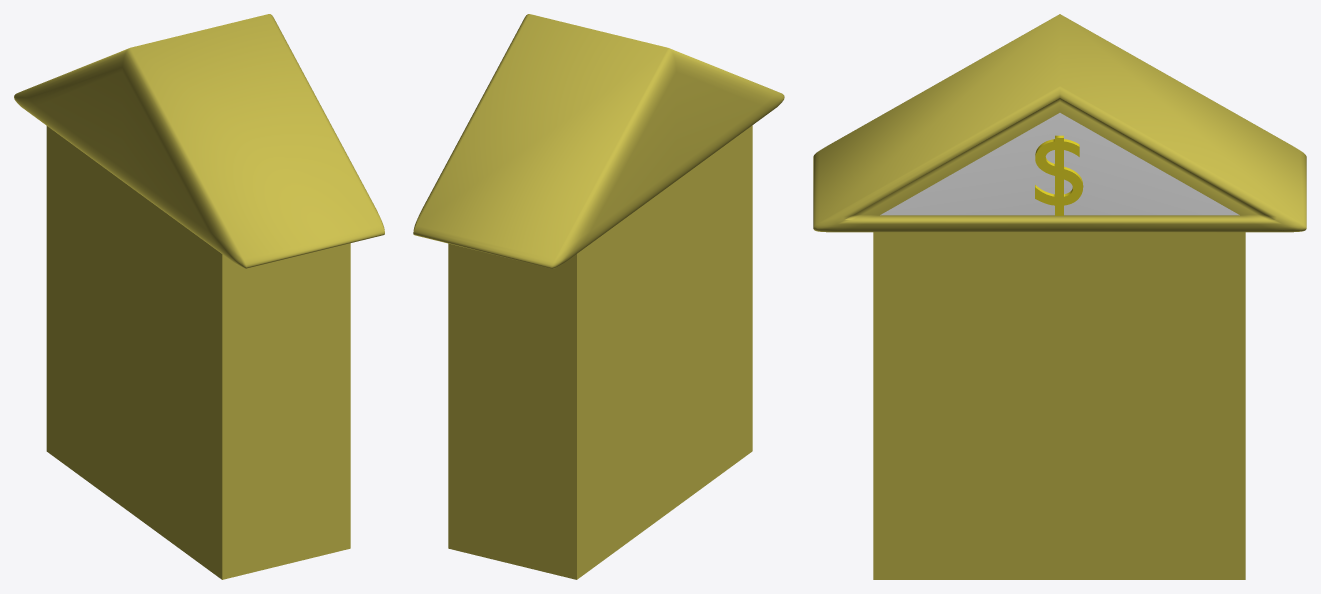
The model's file is Bank.glb.
The picture shows the model from 3 angles, left to right: view 1: azimuth 30°, elevation 25°; view 2: azimuth 150°, elevation 25°; view 3: azimuth 270°, elevation 25°; orthographic projection. The views are drawn at different scales.
Parts seen in each view (by area): view 1: Text; view 2: Text; view 3: Text.
Part boxes in pixels (x1=…): Text: x1=14, y1=14, x2=384, y2=579; Text: x1=413, y1=14, x2=784, y2=579; Text: x1=813, y1=14, x2=1306, y2=579.
Size of the model in its own units: 1.12 by 3.21 by 2.89.
